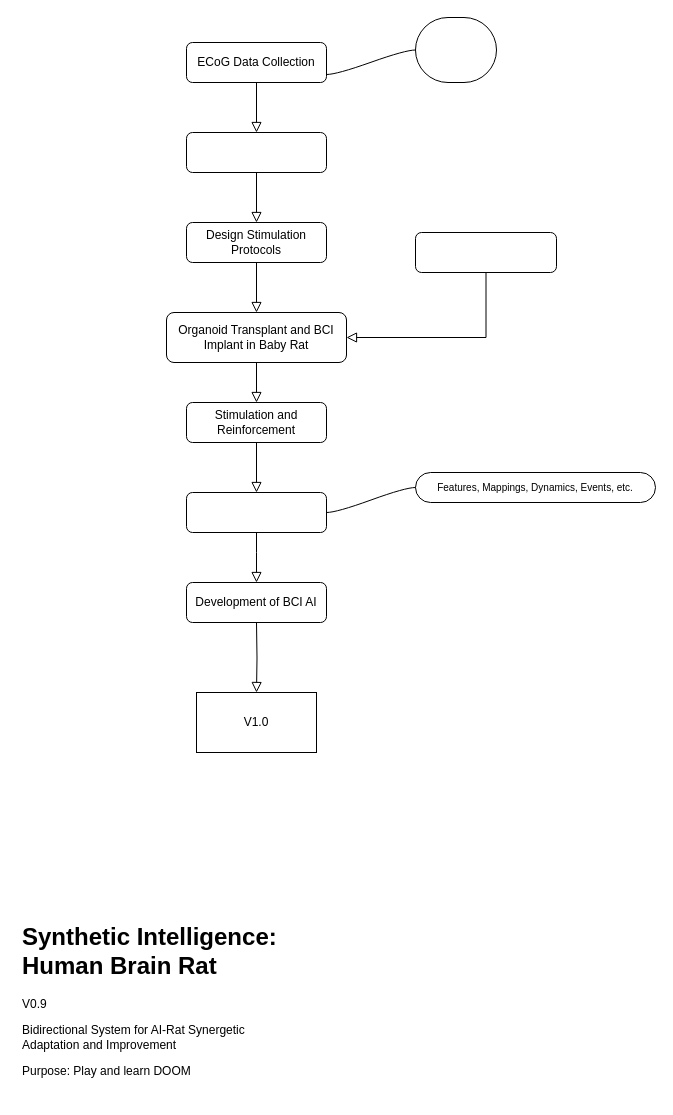
The diagram is 673 pixels wide and 1115 high, and some of its shapes have lost their labels. The box of each missing label's shape, as (x1, y1, x2, y2) in pixels:
Analysis of Rat ECoG/BCI data: (186, 492, 326, 532)
ECoG Data Analysis: (186, 132, 326, 172)
Grow Human Cortical Organoids: (414, 232, 556, 272)
Visual Auditory Thoughts: (414, 16, 496, 82)
